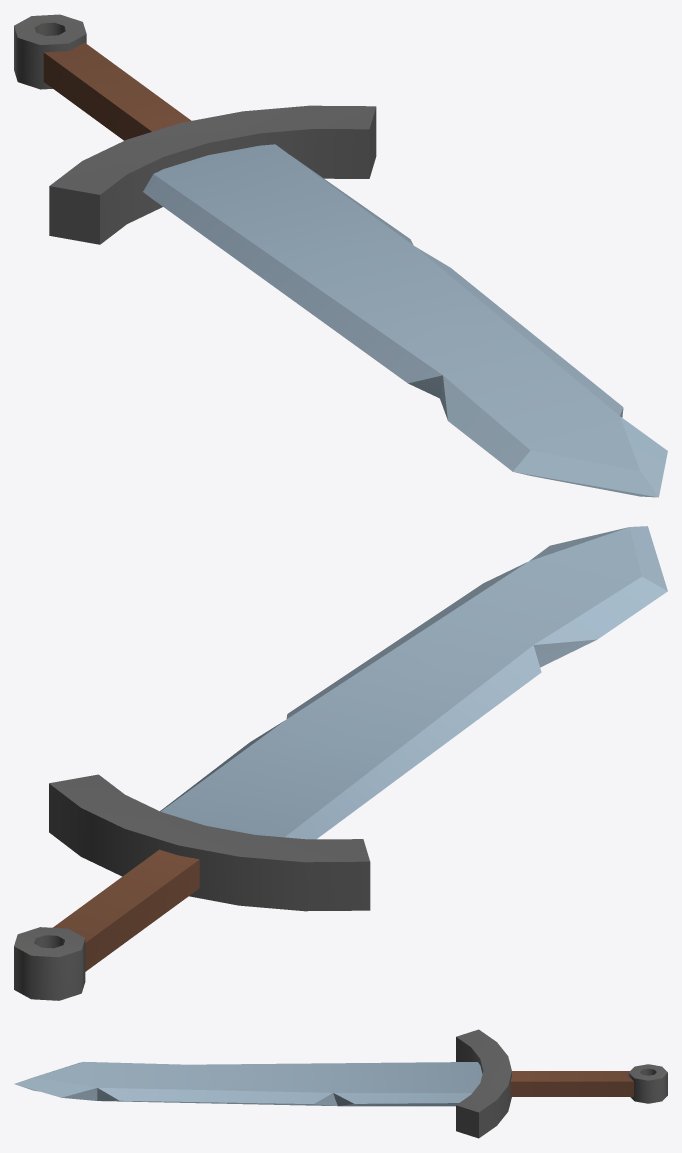
Rendered from mini_sword_skeleton_1.fbx.
The picture shows the model from 3 angles, top to bottom: view 1: azimuth 30°, elevation 25°; view 2: azimuth 150°, elevation 25°; view 3: azimuth 270°, elevation 25°; orthographic projection. The views are drawn at different scales.
Visible parts, largest first — view 1: mini_sword_skeleton_1; view 2: mini_sword_skeleton_1; view 3: mini_sword_skeleton_1.
Part boxes in pixels (x1,y1,x2,y2): mini_sword_skeleton_1: (14,14,667,497); mini_sword_skeleton_1: (14,526,667,1000); mini_sword_skeleton_1: (14,1029,667,1138).
Size of the model in its own units: 18.66 by 2.72 by 62.
